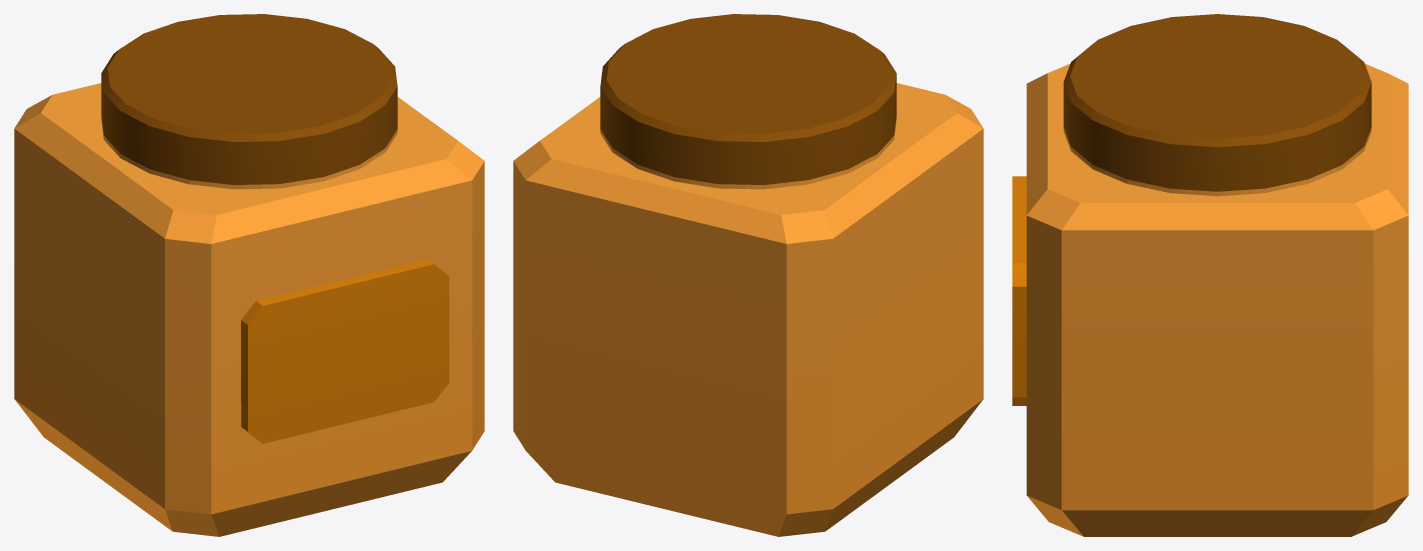
File: Jar_02.fbx
3 views of the same model, side by side, from view 1: azimuth 30°, elevation 25°; view 2: azimuth 150°, elevation 25°; view 3: azimuth 270°, elevation 25° (orthographic). The views are drawn at different scales.
Visible parts, largest first — view 1: Jar_02; view 2: Jar_02; view 3: Jar_02.
Boxes of the visible parts, box(x1,y1,x2,y2) form: Jar_02: box(14, 14, 484, 536); Jar_02: box(513, 14, 983, 536); Jar_02: box(1012, 14, 1408, 536).
Size of the model in its own units: 22.74 by 25.57 by 23.59.
